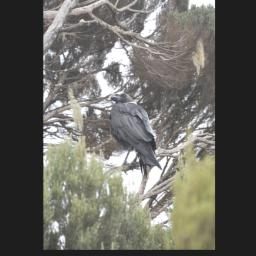Crow: (109, 92, 162, 182)
